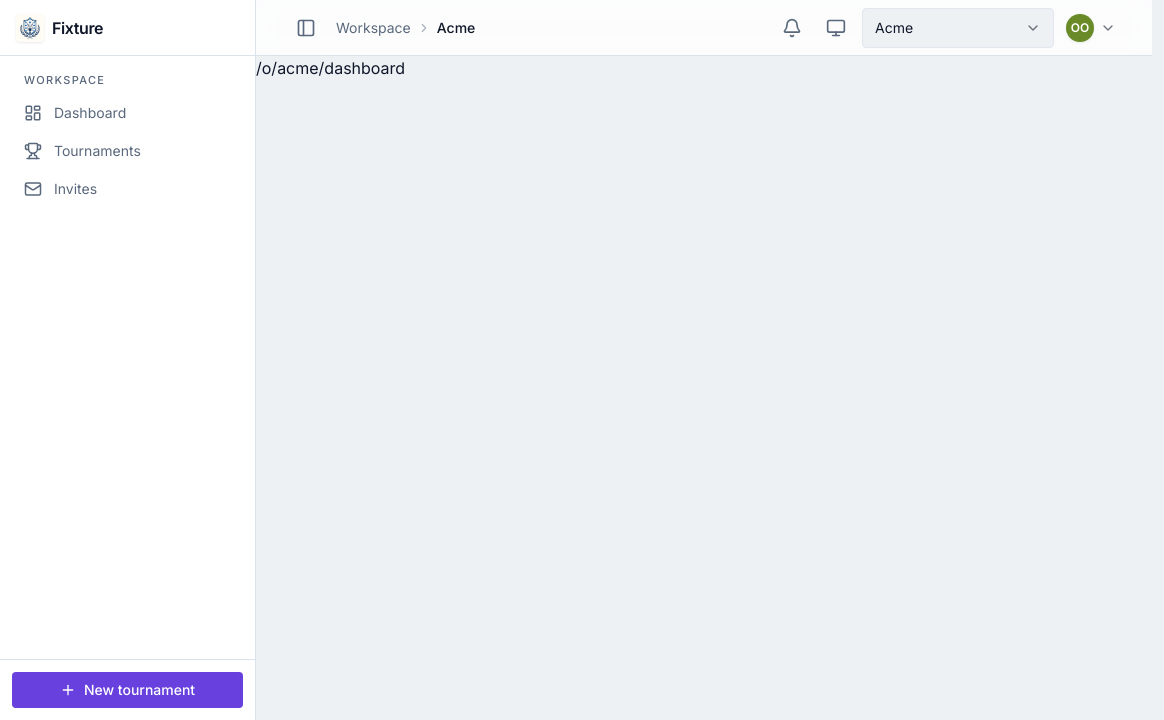
Test case: AppShell › opens the user menu and exposes profile + notifications + sign out
Click the button with aria-label "open user menu" at (1091, 28), box [1062, 10, 1120, 46]
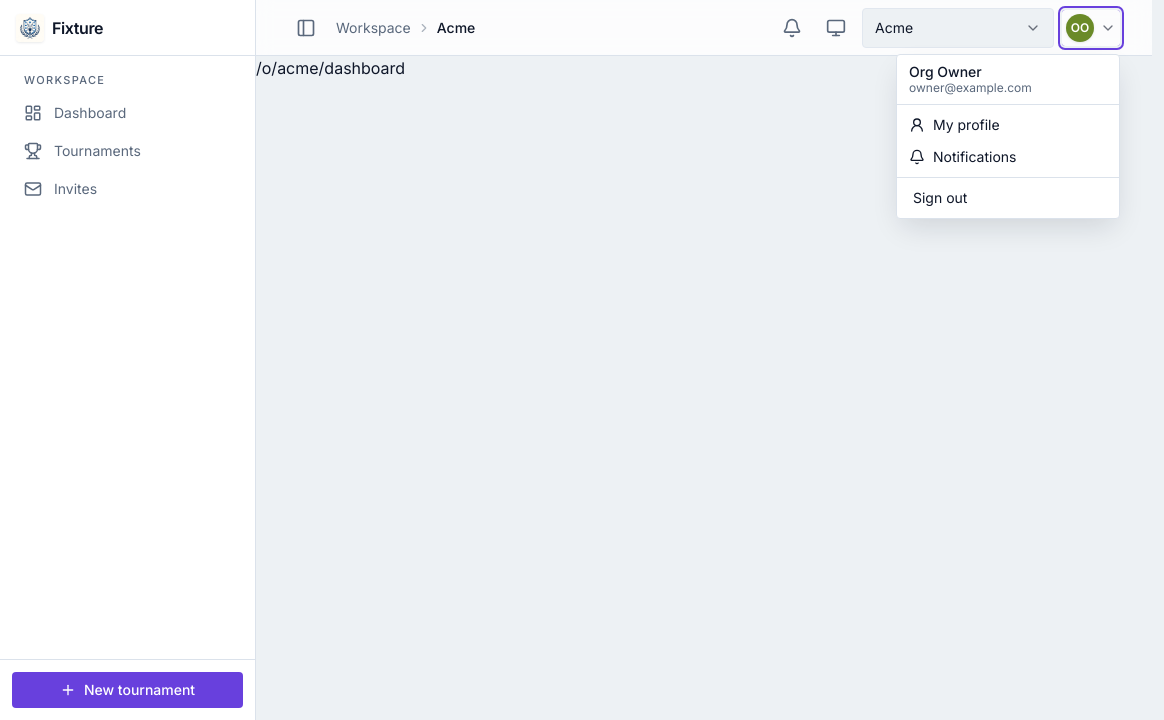
Expected: the menu named "user menu" is shown, [896, 54, 1120, 219]
Expected: the menu item "My profile" is shown, [909, 116, 1000, 133]
Expected: the menu item "Notifications" is shown, [909, 148, 1016, 165]
